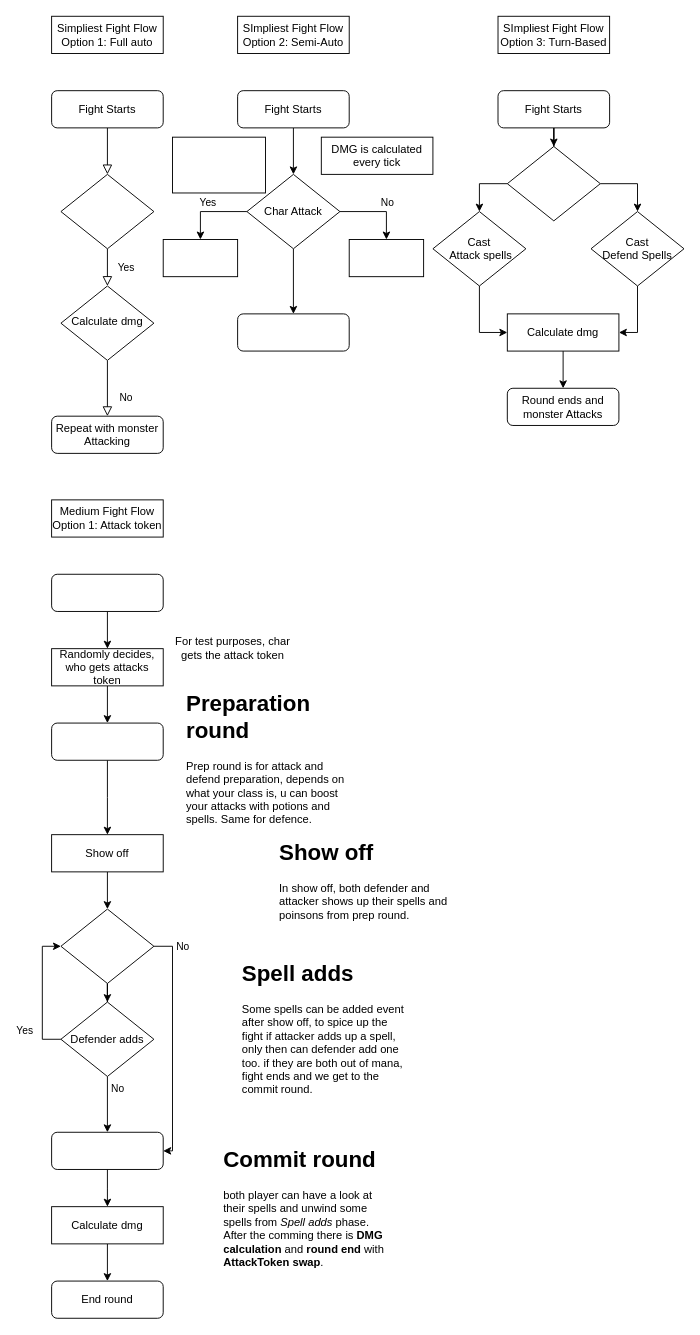
This 700x1335 diagram has some shape labels left out. The shapes that lost their labels are listed below. From the top down, each one's centre as x and y in pixels, then its label:
At pixel 219 164: "Spells re put into buffer to be casted in proper round".
At pixel 553 183: "Char attacks".
At pixel 107 211: "Character Attack".
At pixel 200 258: "Can cast spells".
At pixel 386 258: "Can cast defend spells".
At pixel 293 332: "Round ends and mosnter attacks".
At pixel 107 592: "Figth starts".
At pixel 107 741: "Preparation round".
At pixel 107 945: "Attacker adds".
At pixel 107 1150: "Commit round".
